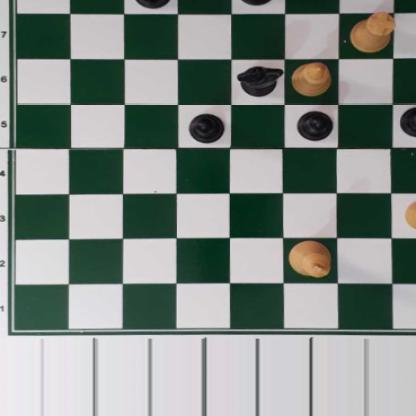black-king: (237, 0, 281, 6)
black-knight: (236, 65, 284, 98)
black-pawn: (296, 109, 333, 142), (187, 113, 225, 144), (399, 104, 416, 137)
black-rook: (129, 0, 174, 9)
white-bishop: (290, 61, 333, 98)
white-king: (287, 239, 333, 278)
white-pawn: (401, 199, 416, 232)
white-rook: (348, 10, 397, 52)
